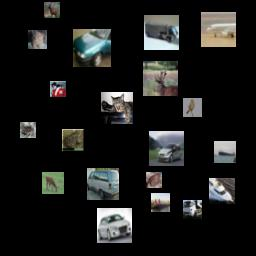airplane: (201, 12, 236, 47)
automobile: (73, 29, 111, 67), (149, 131, 184, 166), (97, 208, 132, 243), (87, 168, 119, 200)
bird: (183, 98, 202, 117)
cat: (101, 92, 133, 124), (28, 30, 47, 49), (50, 81, 66, 97)
deer: (143, 61, 178, 96), (42, 172, 64, 194), (44, 2, 60, 18)
frog: (62, 129, 84, 151), (20, 122, 36, 138), (146, 172, 162, 188)
ship: (209, 178, 235, 204), (214, 141, 236, 163), (151, 193, 170, 212)
truck: (144, 15, 179, 50), (183, 200, 202, 219)
